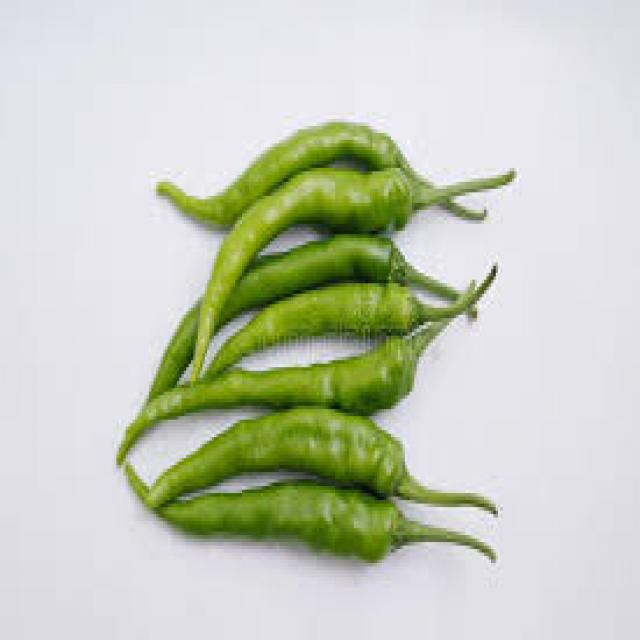green chilli: (193, 170, 518, 383), (121, 323, 447, 463), (149, 409, 496, 512), (158, 483, 498, 563)
